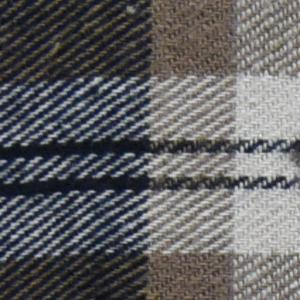Stain: (282, 131, 300, 174)
